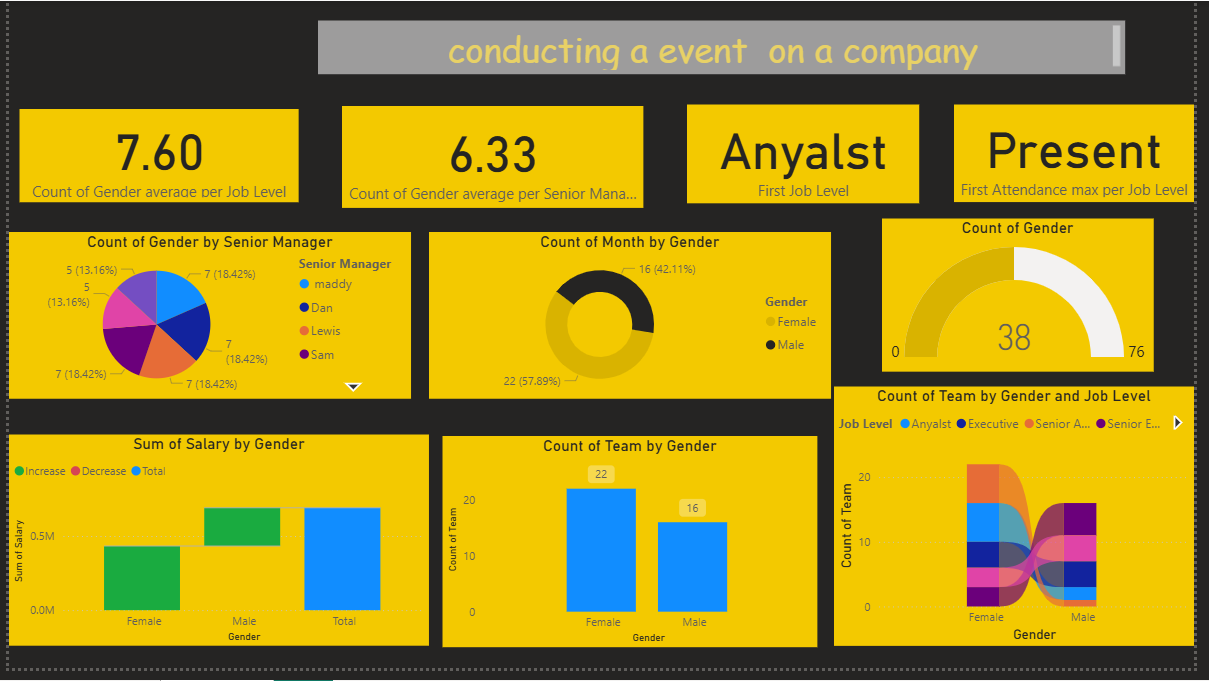

Layout of this report page (visuals, bound fields, positions):
{"tool":"powerbi","page":{"name":"Page 1","canvas":[1280,720],"ordinal":0},"visuals":[{"type":"card","fields":{"Values":["Data.Count of Gender average per Job Level"]},"box":[11.3,116.6,301.2,100.4],"z":0},{"type":"card","fields":{"Values":["Data.Job Level"]},"box":[731.9,111.7,251,106.9],"z":2},{"type":"card","fields":{"Values":["Data.First Attendance max per Job Level"]},"box":[1020.1,111.7,259.1,105.2],"z":4},{"type":"card","fields":{"Values":["Data.Count of Gender average per Senior Manager"]},"box":[359.5,113.3,325.5,110.1],"z":5},{"type":"pieChart","fields":{"Category":["Data.Senior Manager"],"Y":["Data.Gender"]},"box":[0,249.4,434,179.7],"z":6},{"type":"donutChart","fields":{"Category":["Data.Gender"],"Y":["Data.Month"]},"box":[453.4,249.4,434,179.7],"z":7},{"type":"waterfallChart","fields":{"Y":["Data.Salary"],"Category":["Data.Gender"]},"box":[0,468,453.4,228.3],"z":8},{"type":"columnChart","fields":{"Category":["Data.Gender","Data.Name"],"Y":["Data.Team"]},"box":[468,469.6,404.8,228.3],"z":9},{"type":"gauge","fields":{"Y":["Data.Gender"]},"box":[942.4,234.8,293.1,165.2],"z":10},{"type":"textbox","box":[333.6,21,871.1,58.3],"z":11},{"type":"ribbonChart","fields":{"Series":["Data.Job Level"],"Category":["Data.Gender"],"Y":["Data.Team"]},"box":[890.6,416.1,388.6,280.1],"z":12}]}

Visuals, with their boxes in screenshot pixels (x1, y1, x2, y2), scaled from the page's 1280x720 canvas onto the 1209x681 screenshot:
card - Data.Count of Gender average per Job Level: [left=11, top=110, right=295, bottom=205]
card - Data.Job Level: [left=691, top=106, right=928, bottom=207]
card - Data.First Attendance max per Job Level: [left=964, top=106, right=1208, bottom=205]
card - Data.Count of Gender average per Senior Manager: [left=340, top=107, right=647, bottom=211]
pieChart - Data.Senior Manager x Data.Gender: [left=0, top=236, right=410, bottom=406]
donutChart - Data.Gender x Data.Month: [left=428, top=236, right=838, bottom=406]
waterfallChart - Data.Salary x Data.Gender: [left=0, top=443, right=428, bottom=659]
columnChart - Data.Gender x Data.Name: [left=442, top=444, right=824, bottom=660]
gauge - Data.Gender: [left=890, top=222, right=1167, bottom=378]
textbox: [left=315, top=20, right=1138, bottom=75]
ribbonChart - Data.Job Level x Data.Gender: [left=841, top=394, right=1208, bottom=658]
